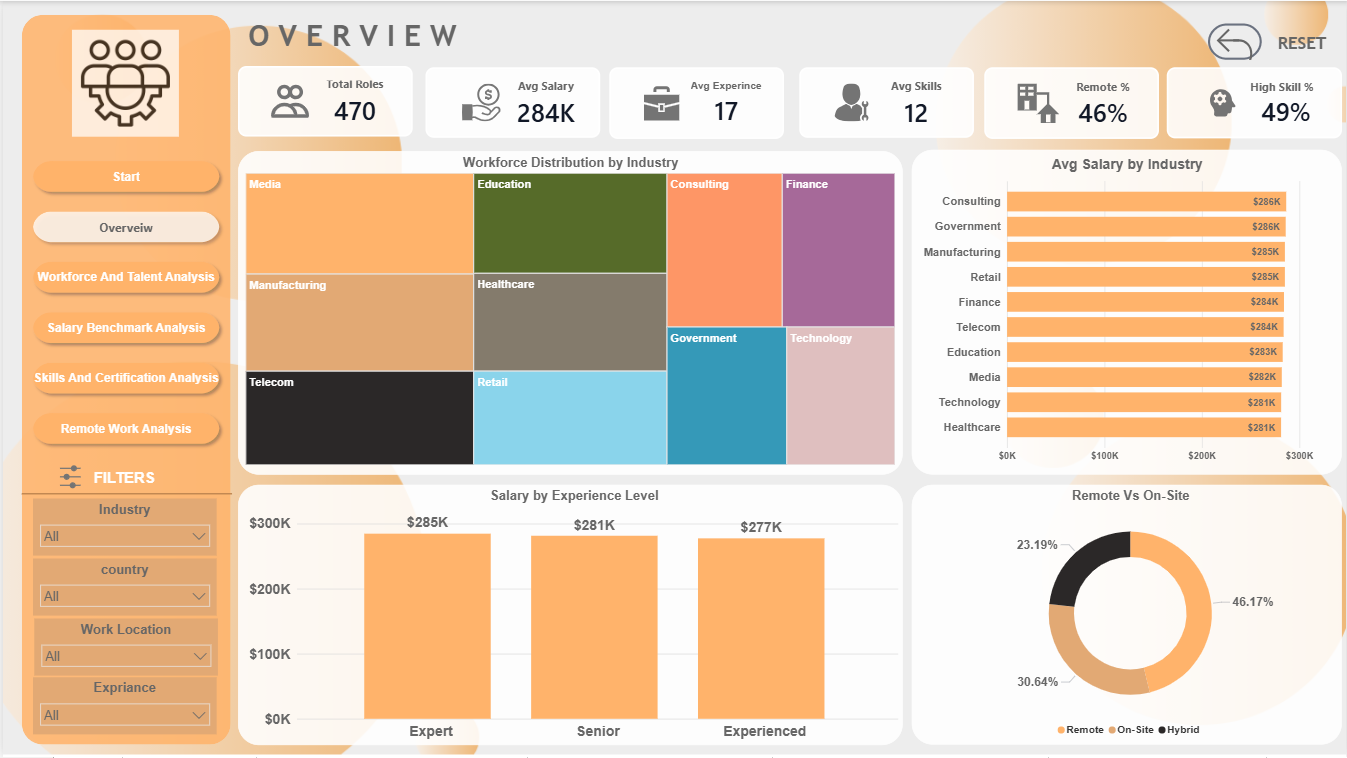

The dashboard page shown, as its layout file describes it:
{"tool":"powerbi","page":{"name":"Overveiw","canvas":[1920,1080],"ordinal":1},"visuals":[{"type":"cardVisual","fields":{"Data":["_Measures (2).Avg Salary"]},"box":[604,95.3,249.9,100.7],"z":0},{"type":"donutChart","title":"Remote Vs On-Site","fields":{"Y":["_Measures (2).Workforce Distribution %"],"Category":["Dim_Worklocation.remote_work"]},"box":[1298.2,691.1,614.3,371.4],"z":1000},{"type":"clusteredColumnChart","title":"Salary by Experience Level","fields":{"Category":["Fact_Workforce.Experience Category"],"Y":["_Measures (2).Avg Salary"]},"box":[336.2,690.3,949.2,372.1],"z":2000},{"type":"treemap","title":"Workforce Distribution by Industry","fields":{"Group":["Dim_Industry.industry"],"Values":["_Measures (2).Total Roles"]},"box":[336.2,213.9,949.2,462],"z":3000},{"type":"cardVisual","fields":{"Data":["_Measures (2).Total Roles"]},"box":[336.2,93.5,249.9,100.7],"z":4000},{"type":"cardVisual","fields":{"Data":["_Measures (2).Avg Expriance"]},"box":[866.5,95.3,249.9,102.5],"z":5000},{"type":"cardVisual","fields":{"Data":["_Measures (2).Avg Skills"]},"box":[1138,95.3,249.9,100.7],"z":6000},{"type":"shape","box":[27,19.8,298.4,1042.7],"z":7000},{"type":"cardVisual","fields":{"Data":["_Measures (2).Remote %"]},"box":[1402.2,95.3,249.9,102.5],"z":8000},{"type":"cardVisual","fields":{"Data":["_Measures (2).High Skill Roles %"]},"box":[1662.5,94.6,250,101.8],"z":9000},{"type":"textbox","box":[250,19.6,498.2,82.1],"z":10000},{"type":"barChart","title":"Avg Salary by Industry","fields":{"Category":["Dim_Industry.industry"],"Y":["_Measures (2).Avg Salary"]},"box":[1298.2,212.5,614.3,464.3],"z":11000},{"type":"pageNavigator","box":[34.2,219.3,284,427.9],"z":12000},{"type":"image","box":[86.3,41.3,178,152.8],"z":13000},{"type":"shape","box":[27.1,676.8,300.4,54.3],"z":14000},{"type":"slicer","title":"Industry","fields":{"Values":["Dim_Industry.industry"]},"box":[43.4,711.2,262.4,81.4],"z":15000},{"type":"slicer","title":"Work Location","fields":{"Values":["Dim_Worklocation.remote_work"]},"box":[45.2,881.3,262.4,81.4],"z":16000},{"type":"slicer","title":"Expriance","fields":{"Values":["Fact_Workforce.Experience Category"]},"box":[43.4,966.4,262.4,81.4],"z":17000},{"type":"slicer","title":"country","fields":{"Values":["Dim_Geo.location"]},"box":[43.4,796.3,262.4,81.4],"z":18000},{"type":"textbox","box":[112.2,664.1,121.2,47.1],"z":19000},{"type":"image","box":[63.3,658.7,67,41.6],"z":20000},{"type":"actionButton","title":"Reset","box":[1721.4,32.1,76.8,51.8],"z":21000},{"type":"textbox","box":[1816.1,41.1,94.6,76.8],"z":22000}]}

Visuals, with their boxes in screenshot pixels (x1, y1, x2, y2), scaled from the page's 1920x1080 canvas onto the 1347x758 screenshot:
cardVisual - _Measures (2).Avg Salary: x1=424 y1=67 x2=599 y2=138
"Remote Vs On-Site" donutChart: x1=911 y1=485 x2=1342 y2=746
"Salary by Experience Level" clusteredColumnChart: x1=236 y1=484 x2=902 y2=746
"Workforce Distribution by Industry" treemap: x1=236 y1=150 x2=902 y2=474
cardVisual - _Measures (2).Total Roles: x1=236 y1=66 x2=411 y2=136
cardVisual - _Measures (2).Avg Expriance: x1=608 y1=67 x2=783 y2=139
cardVisual - _Measures (2).Avg Skills: x1=798 y1=67 x2=974 y2=138
shape: x1=19 y1=14 x2=228 y2=746
cardVisual - _Measures (2).Remote %: x1=984 y1=67 x2=1159 y2=139
cardVisual - _Measures (2).High Skill Roles %: x1=1166 y1=66 x2=1342 y2=138
textbox: x1=175 y1=14 x2=525 y2=71
"Avg Salary by Industry" barChart: x1=911 y1=149 x2=1342 y2=475
pageNavigator: x1=24 y1=154 x2=223 y2=454
image: x1=61 y1=29 x2=185 y2=136
shape: x1=19 y1=475 x2=230 y2=513
"Industry" slicer: x1=30 y1=499 x2=215 y2=556
"Work Location" slicer: x1=32 y1=619 x2=216 y2=676
"Expriance" slicer: x1=30 y1=678 x2=215 y2=735
"country" slicer: x1=30 y1=559 x2=215 y2=616
textbox: x1=79 y1=466 x2=164 y2=499
image: x1=44 y1=462 x2=91 y2=492
"Reset" actionButton: x1=1208 y1=23 x2=1262 y2=59
textbox: x1=1274 y1=29 x2=1340 y2=83
